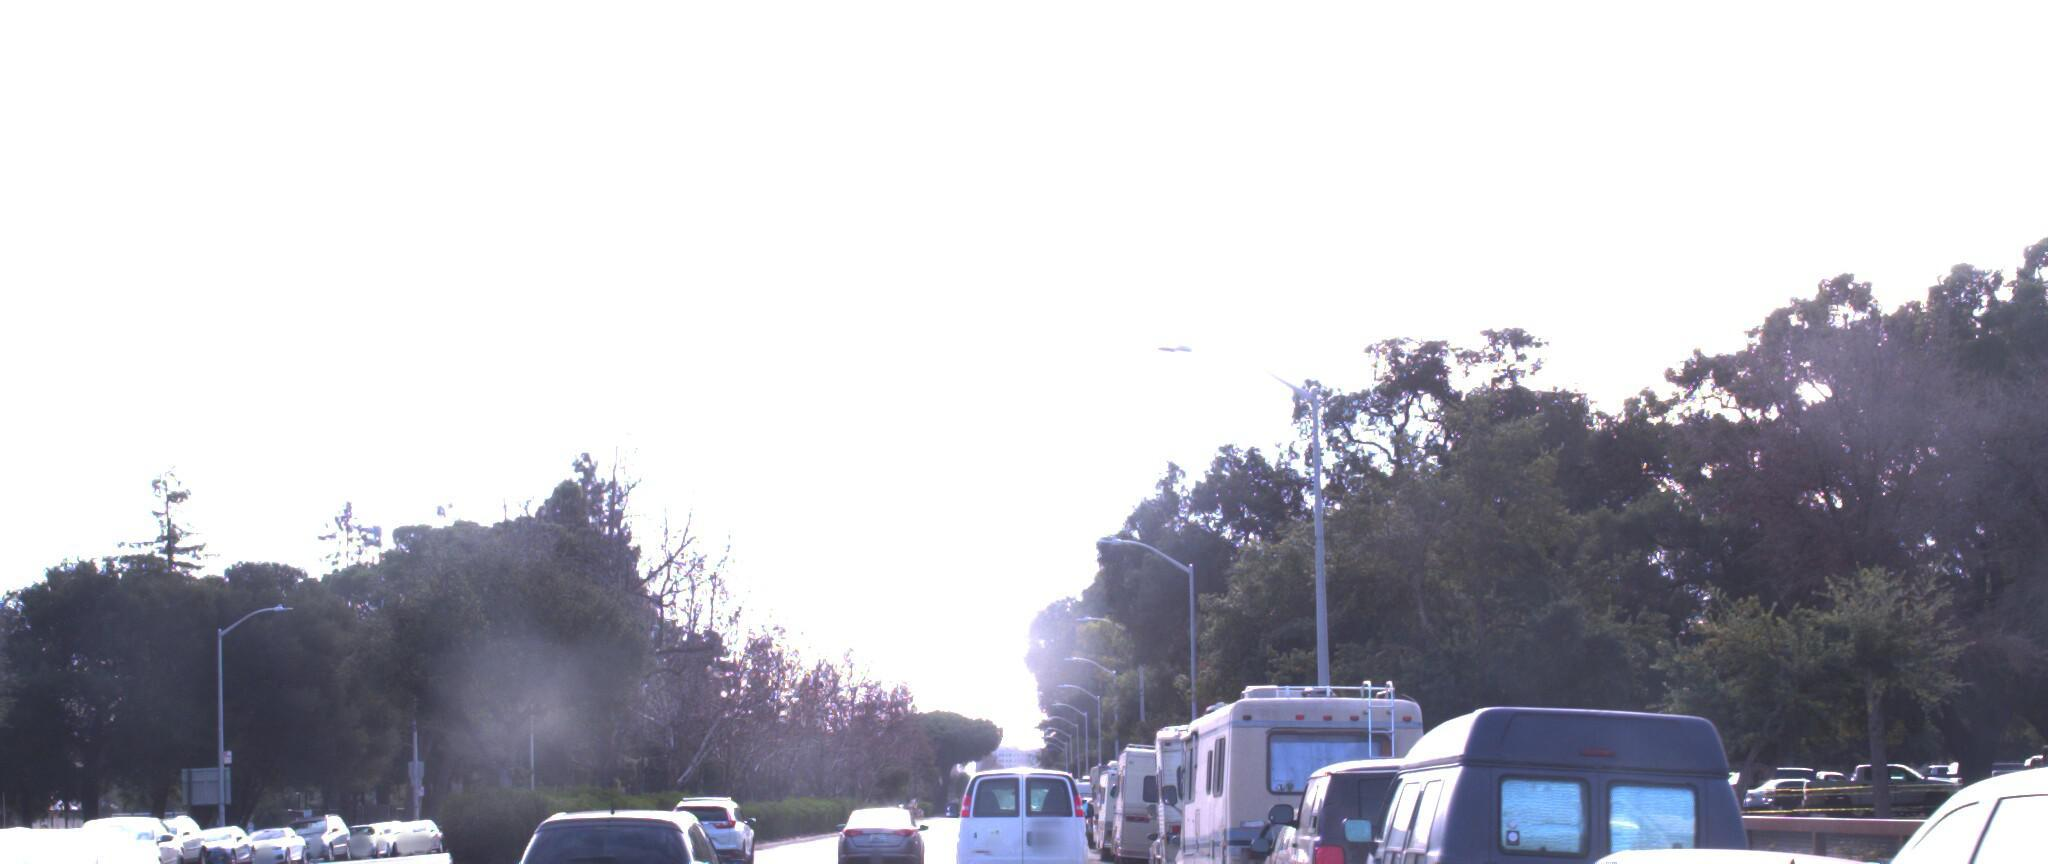car: (1319, 676, 1774, 864), (1667, 702, 2048, 864), (1260, 727, 1540, 864), (1450, 814, 2048, 864), (483, 780, 756, 864), (0, 784, 251, 864), (1236, 777, 1456, 864), (947, 737, 1081, 864), (661, 775, 765, 852), (825, 784, 917, 864)
other_vehicle: (1151, 645, 1435, 864), (1139, 692, 1300, 864), (1101, 715, 1240, 861)
